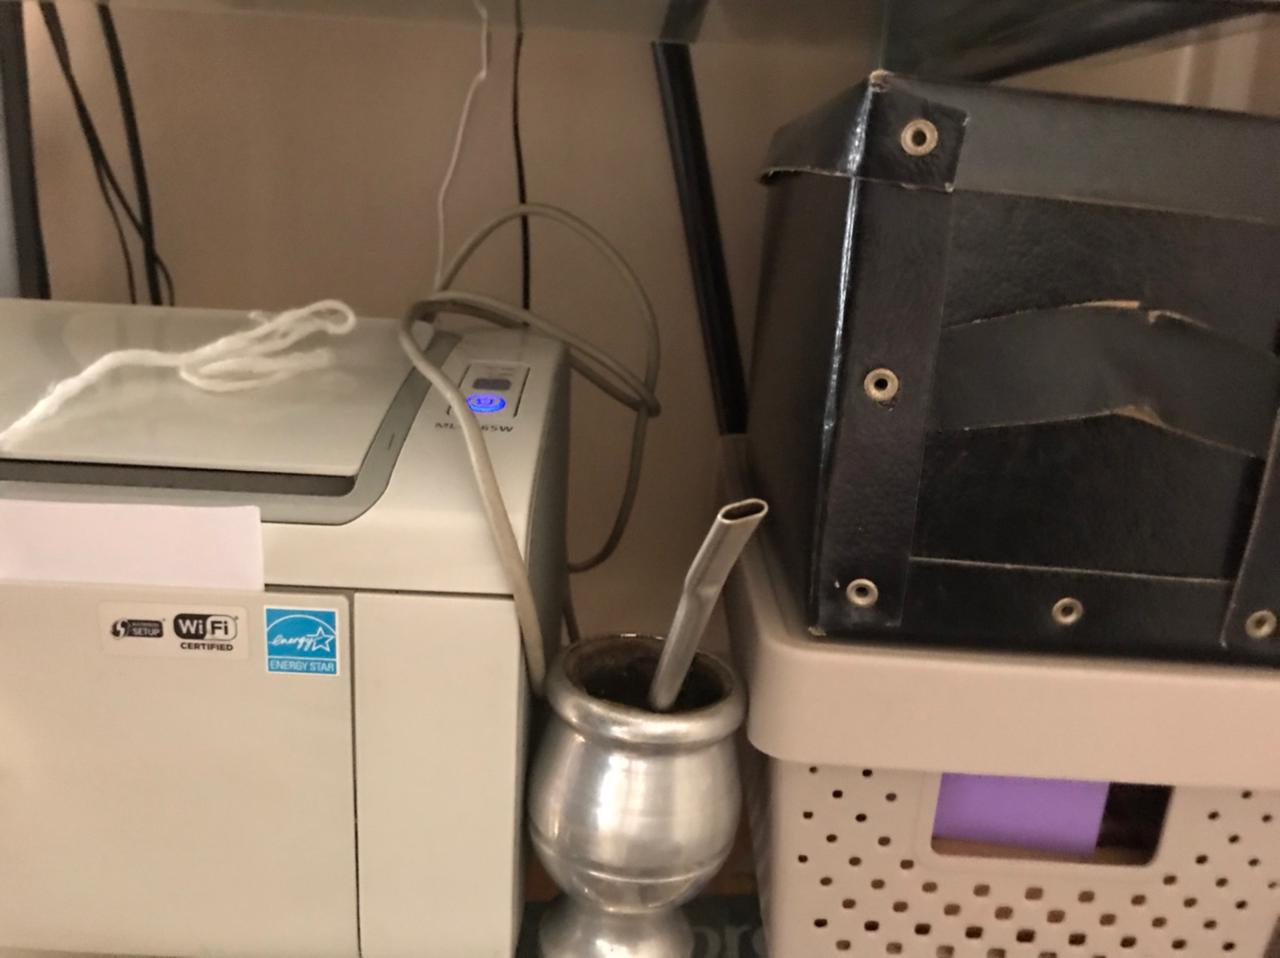mate: (513, 485, 771, 958)
